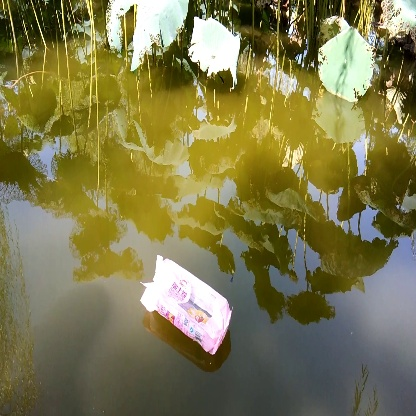plastic-bag: (140, 252, 237, 362)
